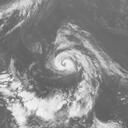cyclone: (44, 46, 83, 75)
